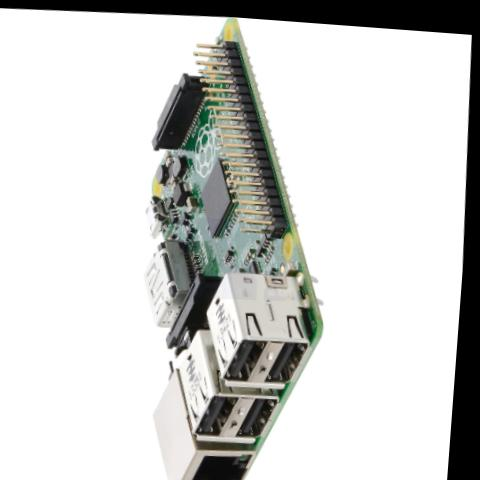Raspberry-Pi-1-Model-B-: (116, 8, 355, 480)
